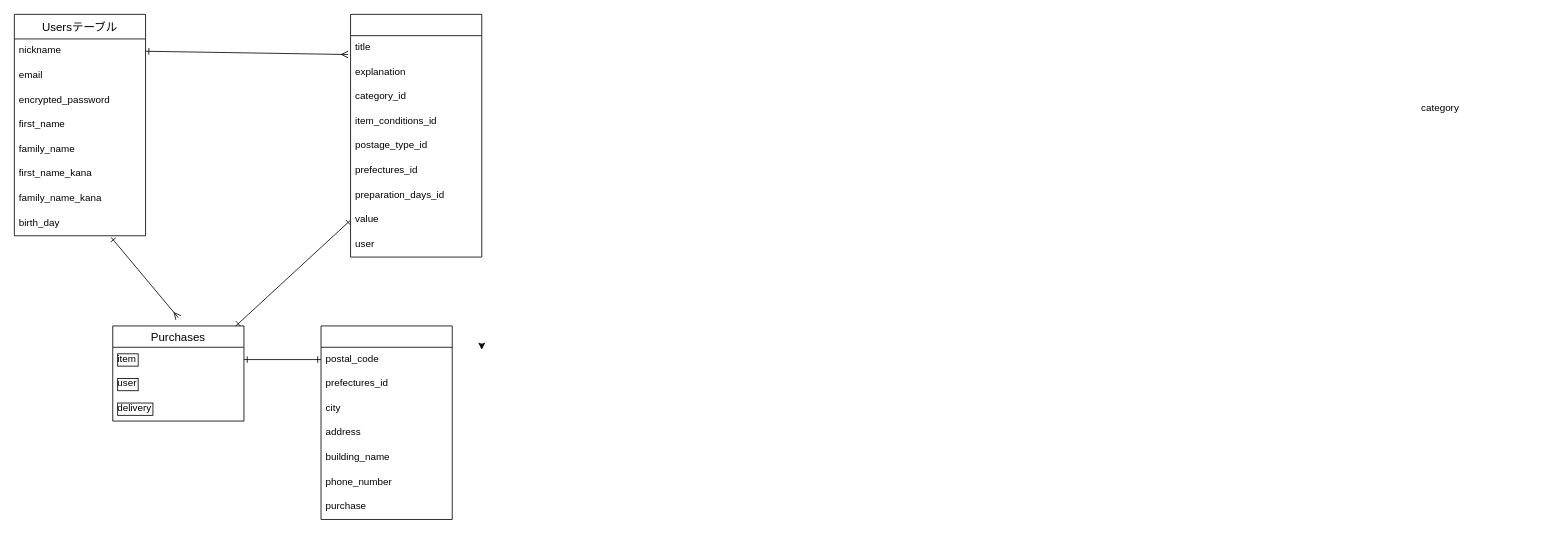
Some shapes in this 1562 by 536 pixel diagram are drawn without their labels. Each missing label, with the box of its shape:
Deliverliesテーブル: (320, 325, 452, 519)
Itemsテーブル: (350, 14, 482, 257)
